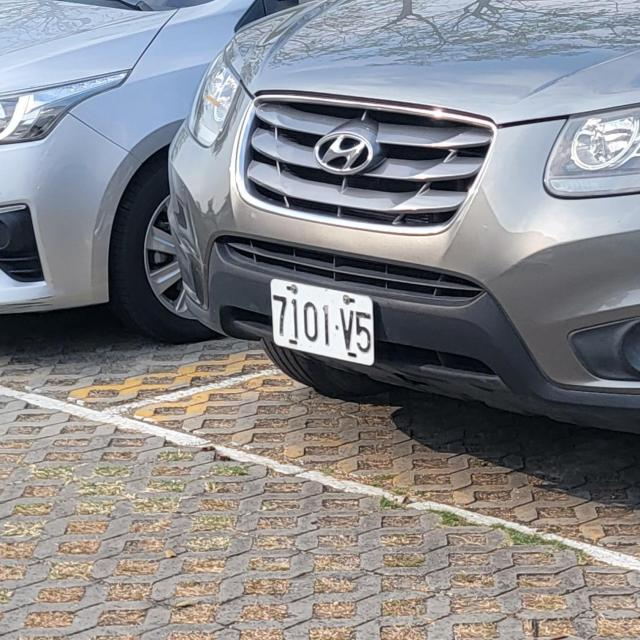W: (267, 275, 379, 373)
